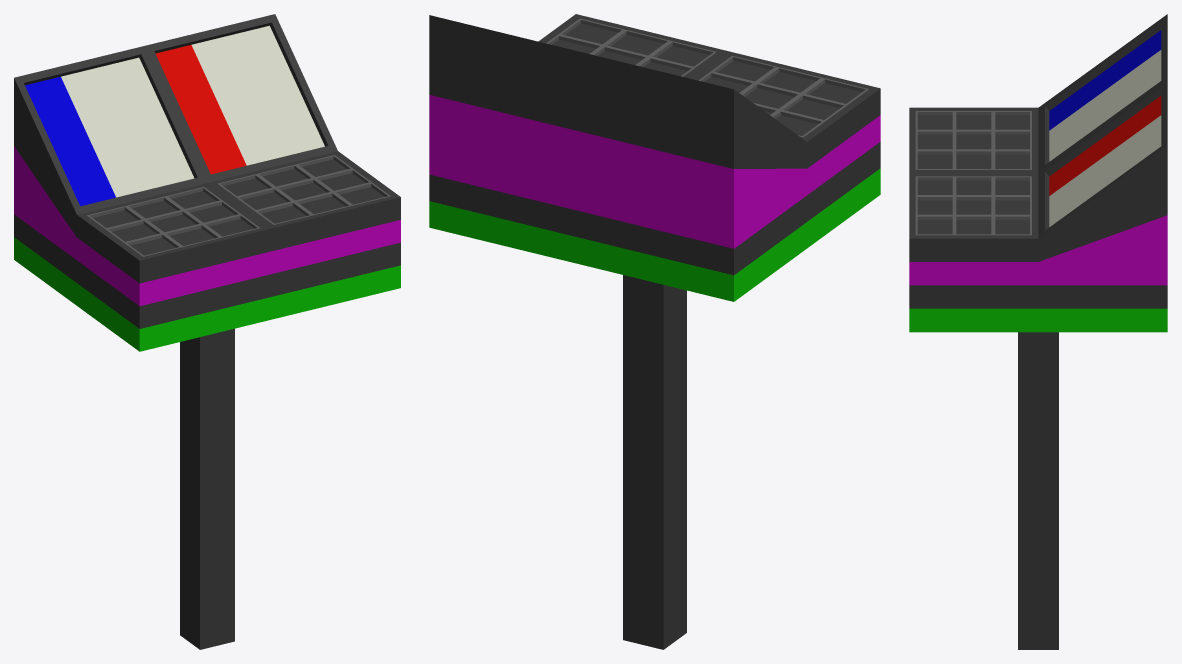
Rendered from Scorepad.fbx.
3 views of the same model, side by side, from view 1: azimuth 30°, elevation 25°; view 2: azimuth 150°, elevation 25°; view 3: azimuth 270°, elevation 25° (orthographic). The views are drawn at different scales.
Parts seen in each view (by area): view 1: Scorepad; view 2: Scorepad; view 3: Scorepad.
Boxes of the visible parts, bbox=[...] form: Scorepad: bbox=[14, 14, 400, 649]; Scorepad: bbox=[429, 14, 880, 649]; Scorepad: bbox=[909, 14, 1167, 649].
Size of the model in its own units: 600 by 1200 by 500.
